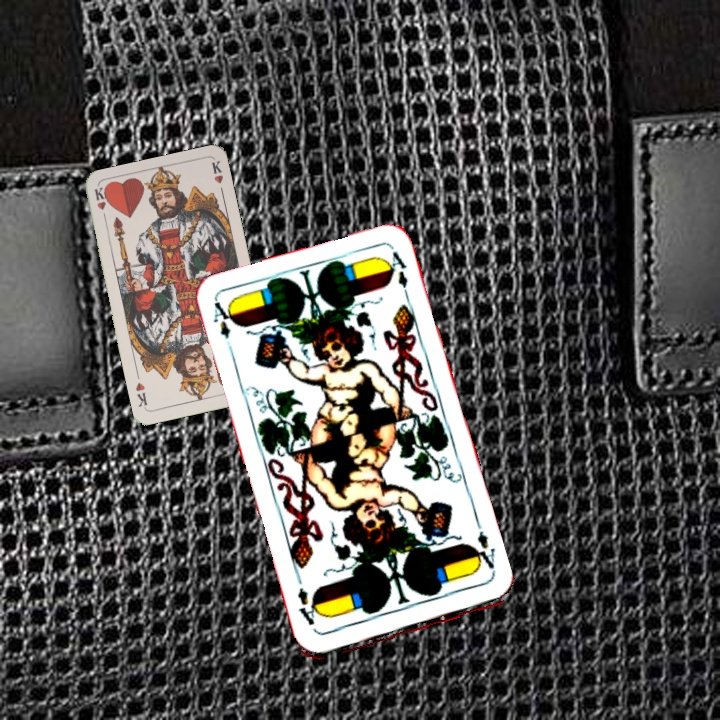EA: (467, 522, 499, 583), (209, 298, 236, 356)
HK: (91, 184, 109, 225)
